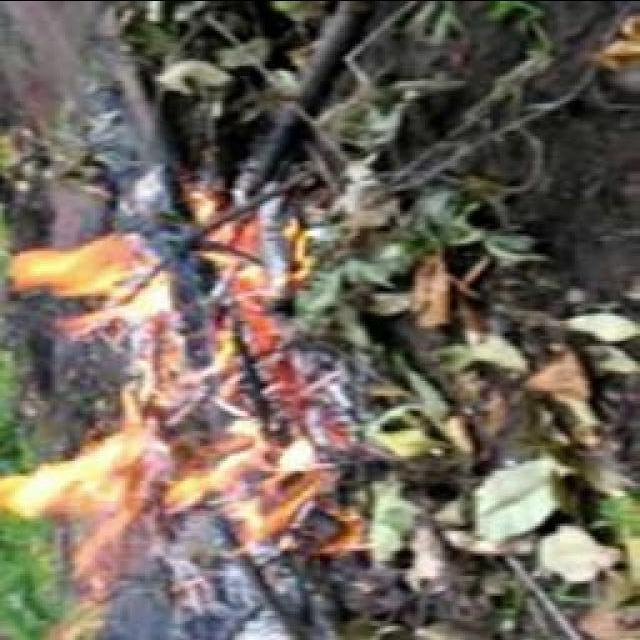Fire: (3, 193, 322, 562)
